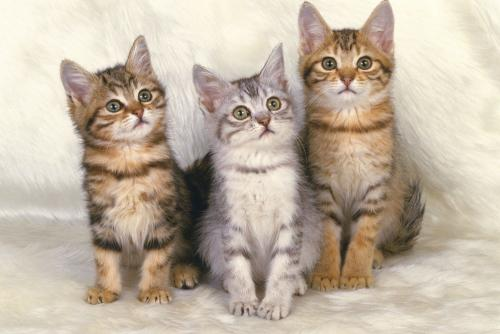cat: (59, 36, 172, 145), (189, 49, 295, 164), (298, 1, 399, 120)
